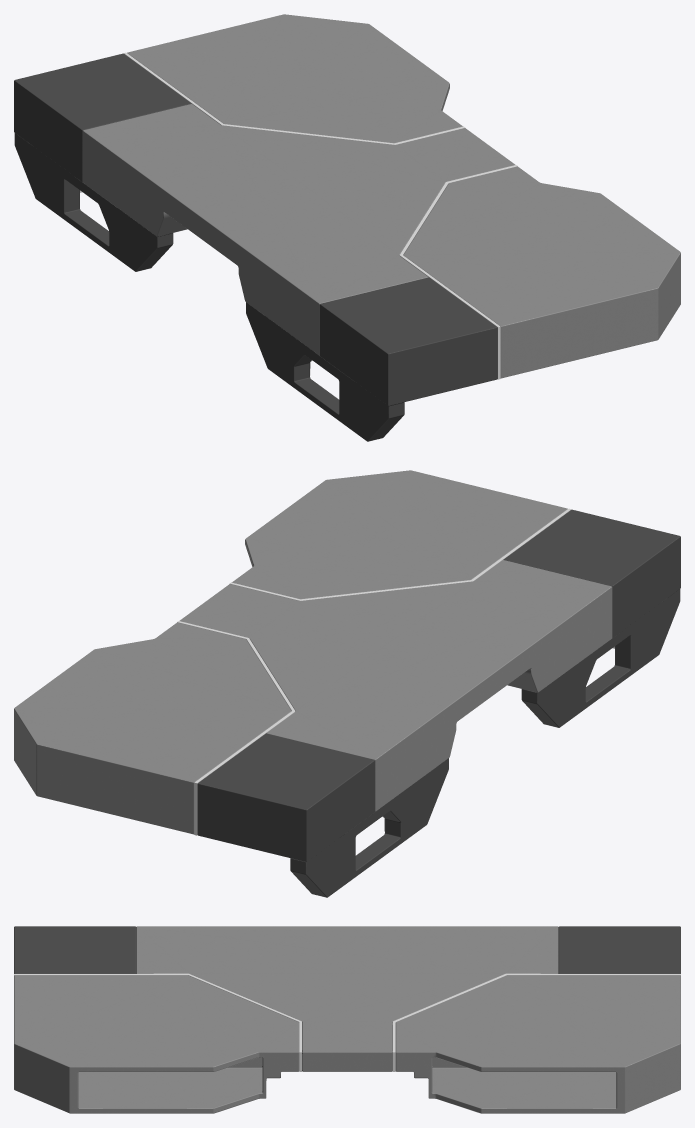
File: Ship_Room_Main_Table_WallMounted_001_v002.fbx
The picture shows the model from 3 angles, top to bottom: view 1: azimuth 30°, elevation 25°; view 2: azimuth 150°, elevation 25°; view 3: azimuth 270°, elevation 25°; orthographic projection. The views are drawn at different scales.
Visible parts, largest first — view 1: Ship_Table_WallMounted_001; view 2: Ship_Table_WallMounted_001; view 3: Ship_Table_WallMounted_001.
Boxes of the visible parts, box(x1,y1,x2,y2) form: Ship_Table_WallMounted_001: box(14, 14, 680, 441); Ship_Table_WallMounted_001: box(14, 470, 680, 897); Ship_Table_WallMounted_001: box(14, 926, 680, 1113).
Size of the model in its own units: 175 by 53.67 by 350.
